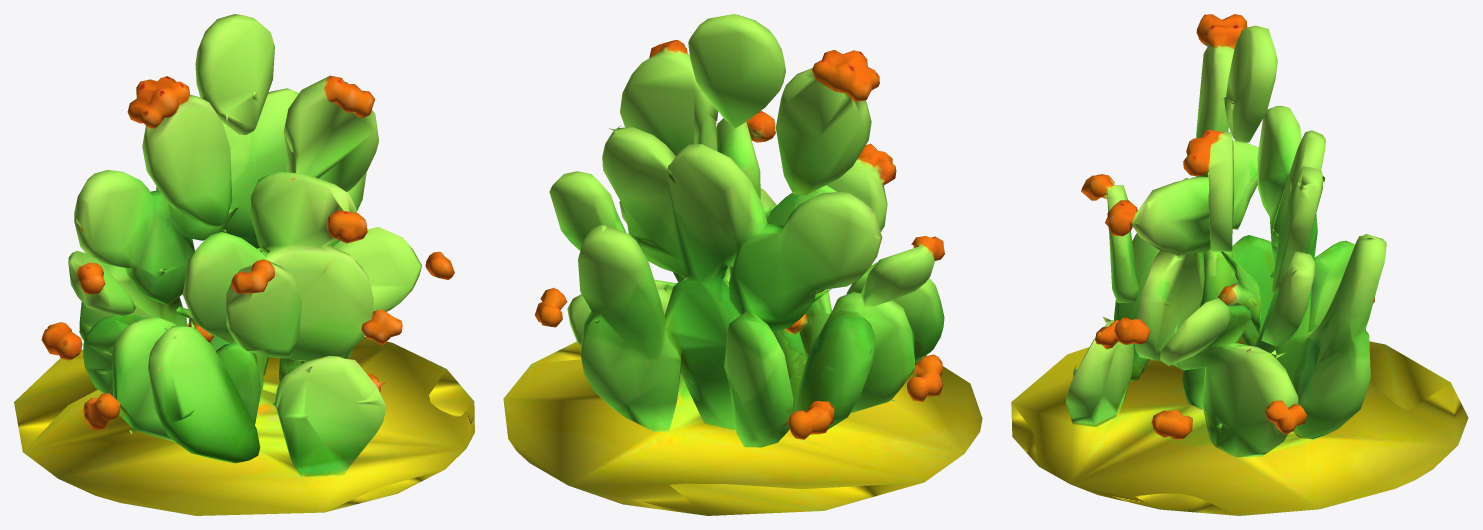
Rendered from prickly.glb.
3 views of the same model, side by side, from view 1: azimuth 30°, elevation 25°; view 2: azimuth 150°, elevation 25°; view 3: azimuth 270°, elevation 25° (orthographic). The views are drawn at different scales.
Bounding box in the file's own units: 1.9 × 1.82 × 1.89.
1 material, 1 textured.
